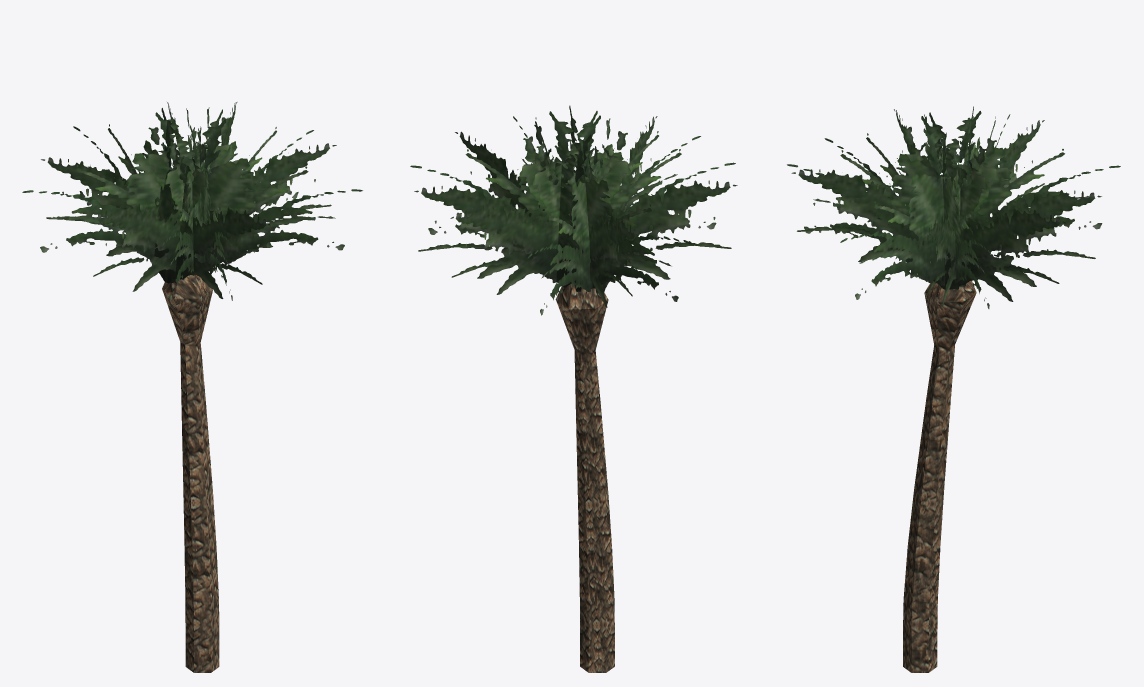
The model's file is Palm.obj.
The picture shows the model from 3 angles, left to right: view 1: azimuth 30°, elevation 25°; view 2: azimuth 150°, elevation 25°; view 3: azimuth 270°, elevation 25°; orthographic projection. The views are drawn at different scales.
Visible parts, largest first — view 1: Plane.003, Cylinder.001; view 2: Plane.003, Cylinder.001; view 3: Plane.003, Cylinder.001.
Boxes of the visible parts, x1,y1,x2,y2 form: Plane.003: [22, 102, 362, 300]; Cylinder.001: [162, 275, 219, 672]; Plane.003: [410, 105, 737, 315]; Cylinder.001: [555, 283, 614, 672]; Plane.003: [787, 106, 1120, 308]; Cylinder.001: [903, 280, 976, 672].
Size of the model in its own units: 0.764 by 1.39 by 0.767.
Materials: 2 (2 with a texture image).
